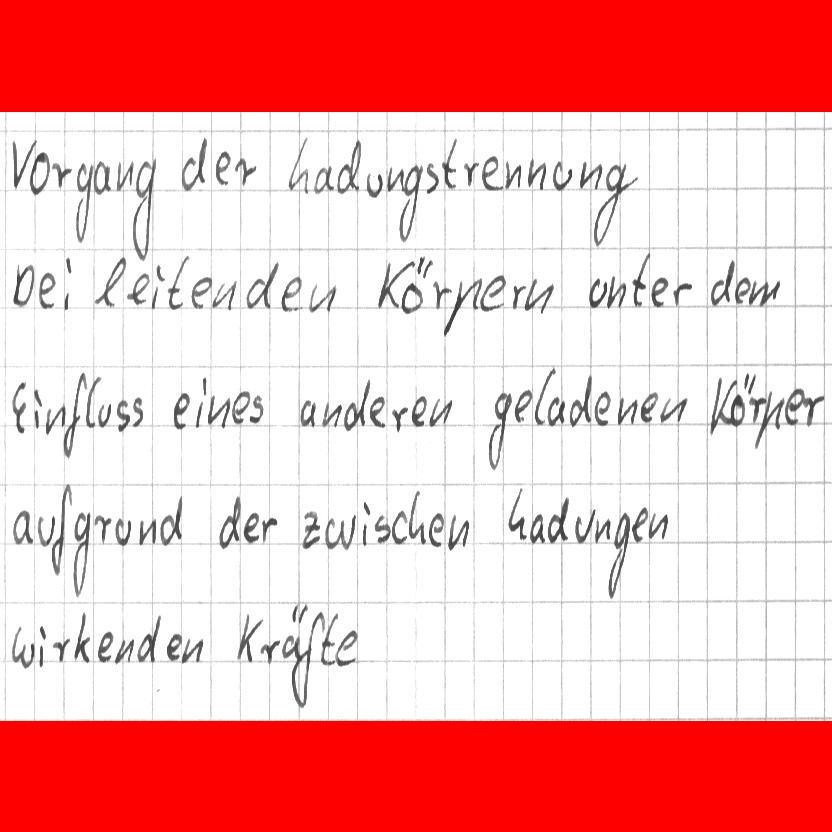Char: (590, 158, 642, 248), (130, 154, 159, 262), (288, 610, 319, 709), (441, 277, 483, 339), (61, 368, 88, 461), (485, 388, 513, 471), (50, 481, 73, 575), (607, 510, 631, 599), (374, 257, 415, 309), (400, 253, 433, 313), (396, 163, 421, 242), (92, 256, 127, 310), (179, 135, 211, 194), (754, 386, 784, 448), (72, 508, 92, 599), (246, 259, 281, 310), (73, 161, 93, 245), (335, 138, 364, 195), (709, 376, 737, 435), (342, 377, 371, 433), (166, 251, 191, 314), (217, 491, 242, 553), (235, 610, 263, 665), (158, 493, 187, 546), (286, 134, 310, 197), (281, 603, 307, 661), (730, 371, 756, 428), (11, 258, 37, 314), (323, 510, 357, 552), (11, 136, 37, 190), (523, 274, 557, 315), (708, 258, 735, 308), (135, 614, 162, 664), (9, 622, 36, 669), (568, 376, 593, 426), (547, 494, 572, 544), (72, 610, 94, 665), (276, 273, 307, 312), (630, 250, 650, 310), (506, 486, 527, 543), (307, 279, 340, 315), (440, 136, 461, 191), (8, 377, 28, 434), (407, 488, 427, 545), (747, 276, 781, 309), (204, 392, 232, 432), (319, 612, 339, 666), (10, 505, 35, 547), (188, 273, 213, 314), (211, 276, 240, 311), (82, 374, 100, 430), (334, 626, 358, 668), (447, 512, 472, 552), (124, 270, 151, 307), (170, 387, 192, 432), (658, 393, 691, 423), (801, 392, 827, 429), (605, 271, 629, 311), (37, 268, 59, 311), (299, 509, 322, 550), (480, 151, 502, 193), (30, 149, 50, 194), (149, 260, 166, 312), (573, 506, 596, 544), (784, 384, 804, 427), (512, 386, 534, 425), (585, 272, 608, 309), (62, 253, 76, 313), (484, 272, 506, 310), (533, 366, 547, 425), (428, 394, 453, 427), (44, 402, 68, 436), (593, 389, 615, 426), (179, 635, 205, 666), (578, 158, 602, 191), (193, 374, 207, 430), (92, 157, 113, 194), (526, 156, 548, 191), (214, 148, 233, 188), (230, 388, 251, 424), (319, 398, 343, 429), (546, 392, 566, 429), (639, 389, 659, 426), (647, 510, 670, 542), (114, 158, 135, 193), (234, 156, 258, 186), (359, 498, 373, 549), (616, 395, 639, 426), (51, 159, 73, 191), (313, 163, 335, 195), (390, 507, 408, 546), (258, 636, 281, 666), (409, 392, 428, 428), (427, 510, 445, 548), (630, 506, 649, 542), (551, 159, 573, 190), (431, 279, 453, 310), (648, 274, 668, 308), (299, 394, 319, 428), (242, 509, 261, 544), (503, 158, 523, 191), (367, 395, 387, 428), (113, 515, 133, 548), (385, 163, 406, 194), (113, 398, 131, 434), (747, 392, 766, 426), (96, 629, 115, 663), (671, 279, 694, 307), (93, 512, 111, 546), (247, 392, 266, 424), (138, 516, 158, 546), (423, 158, 439, 195), (37, 514, 55, 546), (373, 513, 391, 545), (113, 637, 135, 663), (51, 636, 72, 663), (462, 159, 481, 188), (733, 275, 752, 304), (260, 513, 277, 545), (364, 171, 384, 198), (31, 386, 43, 430), (528, 512, 545, 543), (593, 516, 611, 544), (509, 282, 526, 309), (166, 631, 181, 661), (132, 394, 144, 431), (38, 623, 48, 667), (393, 404, 408, 433), (97, 402, 111, 429)
